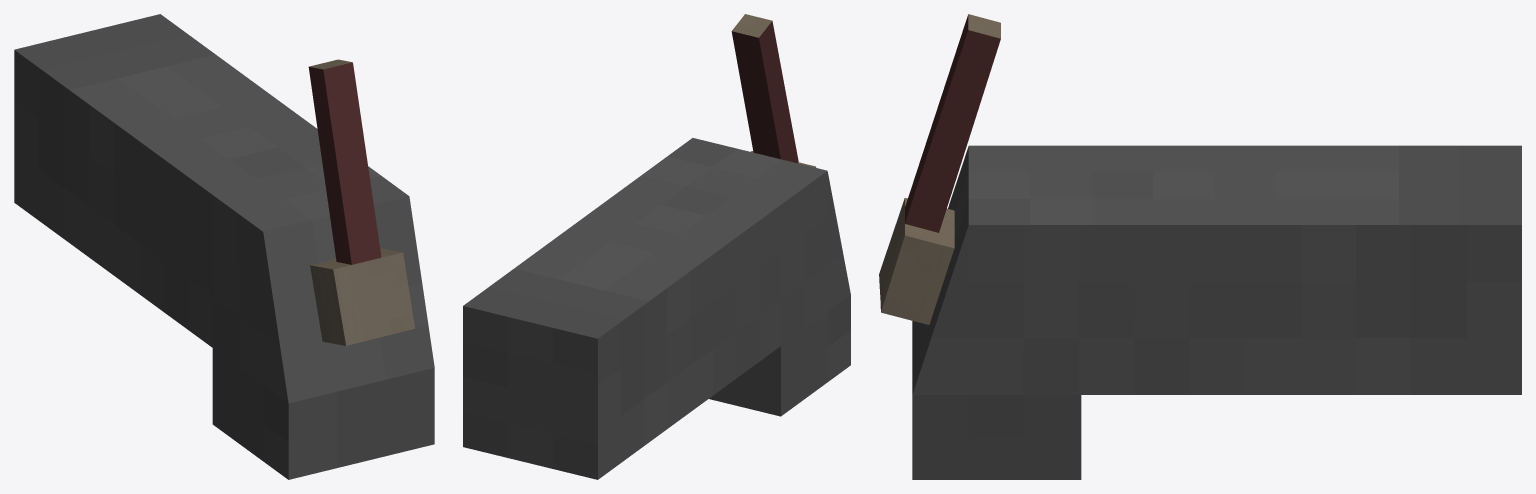
The model's file is faucet.obj.
The picture shows the model from 3 angles, left to right: view 1: azimuth 30°, elevation 25°; view 2: azimuth 150°, elevation 25°; view 3: azimuth 270°, elevation 25°; orthographic projection. The views are drawn at different scales.
Visible parts, largest first — view 1: faucet_Cube.030, lever_Cube.031; view 2: faucet_Cube.030, lever_Cube.031; view 3: faucet_Cube.030, lever_Cube.031.
Boxes of the visible parts, x1,y1,x2,y2 form: faucet_Cube.030: (14,14,434,479); lever_Cube.031: (308,59,414,345); faucet_Cube.030: (463,138,850,479); lever_Cube.031: (731,14,816,167); faucet_Cube.030: (912,145,1521,479); lever_Cube.031: (879,14,1000,324).
Bounding box in the file's own units: 0.1777 × 0.4383 × 0.6092.
